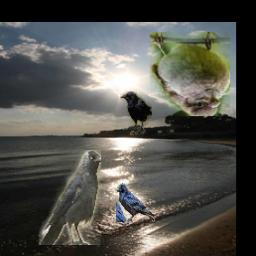Crow: (40, 150, 102, 245), (117, 184, 156, 223), (120, 91, 152, 135)
Sparrow: (151, 32, 231, 116)
